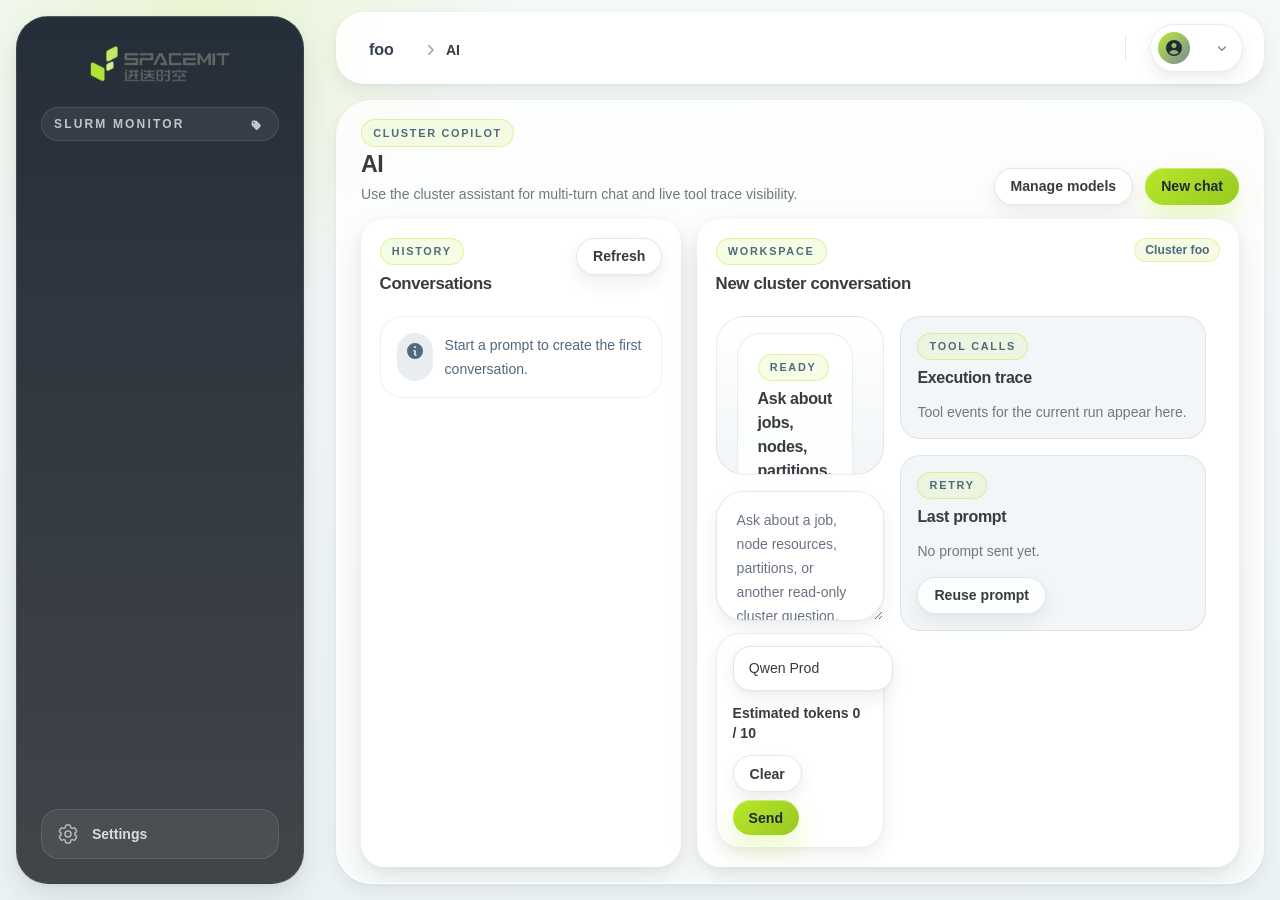
Scenario: views/AssistantView.vue › shows token usage and blocks prompts that exceed the configured limit
The image size is (1280, 900).
Replace the text in the text box with "Explain the current job scheduling pressure across every partition with detailed evidence.": [800, 556] box [716,491,884,621]
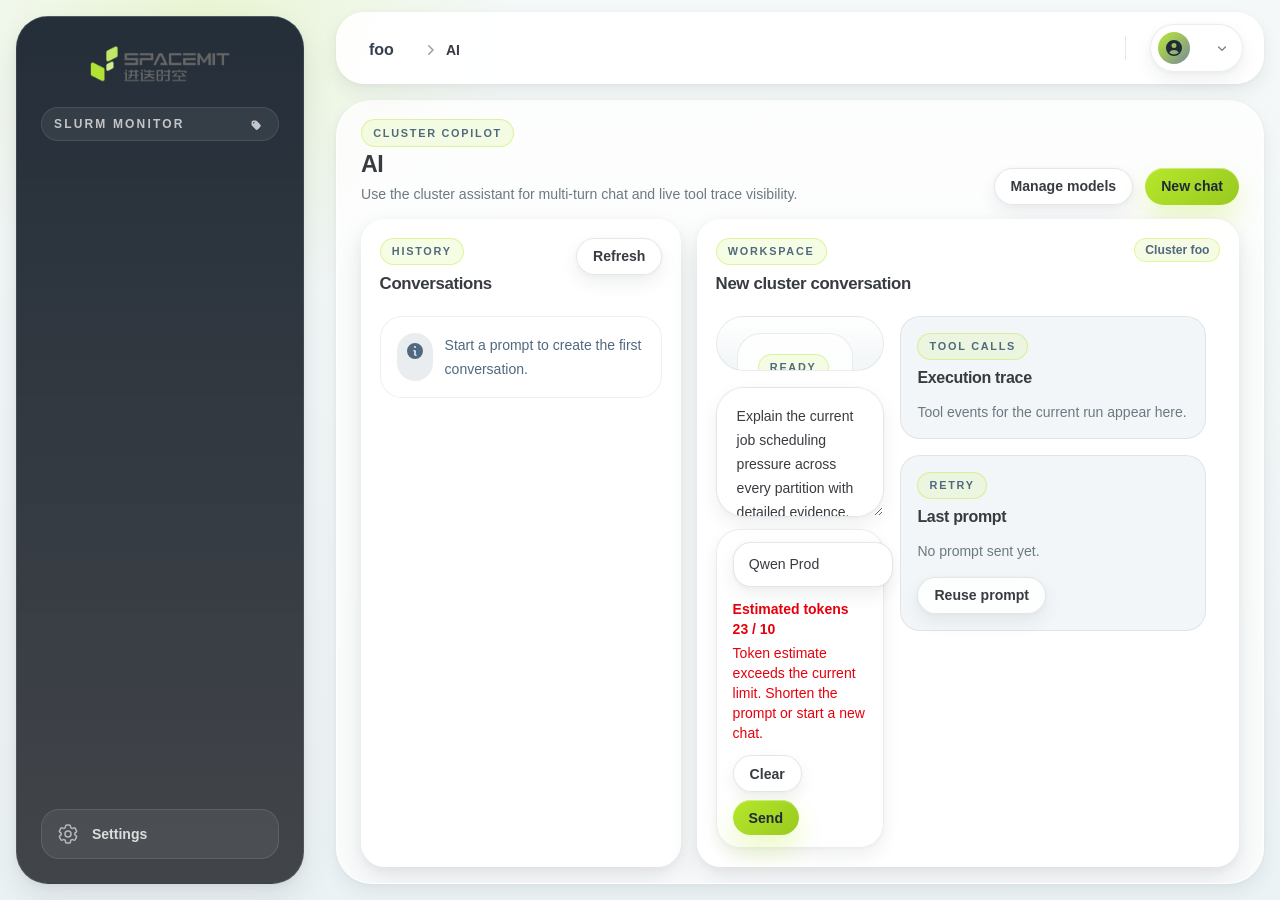
Expected: the submit button is disabled, [733,800,799,835]
Expected: the text "Token estimate exceeds the current limit" is shown, [733,645,865,741]
Submit the form, box [716,387,884,848]
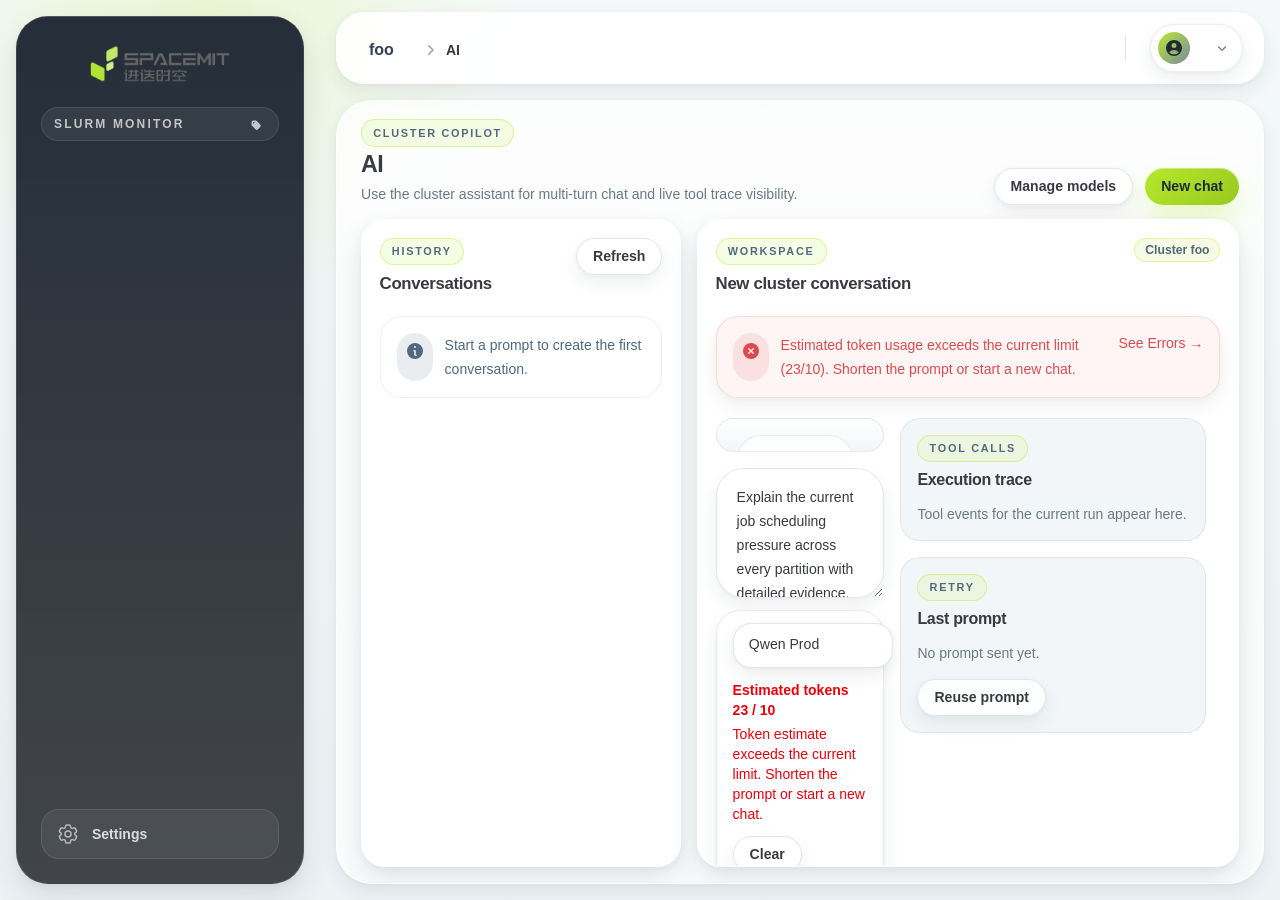
Expected: the text "Estimated token usage exceeds the current limit" is shown, [781,337,1079,377]
